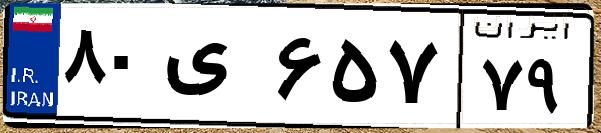0: (110, 28, 158, 98)
5: (330, 28, 385, 110)
6: (270, 28, 330, 110)
7: (385, 28, 445, 110), (475, 38, 525, 113)
8: (57, 26, 110, 100)
9: (525, 38, 570, 115)
ی: (158, 20, 270, 120)
